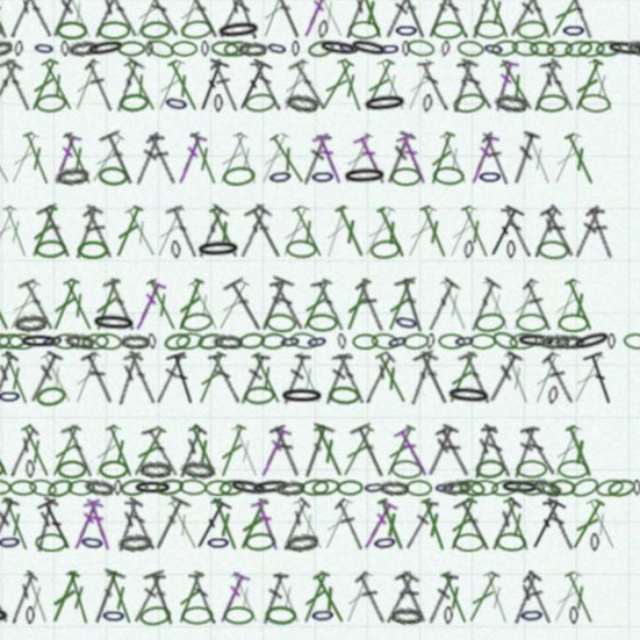chain: (535, 328, 572, 351), (229, 62, 270, 82), (355, 125, 396, 145), (427, 377, 468, 396), (13, 566, 54, 585), (343, 77, 380, 98), (122, 315, 162, 333), (240, 456, 276, 476), (117, 78, 153, 97), (317, 78, 353, 97), (338, 189, 378, 206), (212, 252, 252, 269), (565, 79, 601, 97), (284, 379, 324, 395), (433, 124, 463, 145), (288, 503, 319, 523), (259, 457, 295, 474), (500, 455, 529, 476), (163, 566, 192, 586), (289, 125, 319, 144), (469, 125, 499, 144), (91, 188, 121, 207), (534, 455, 561, 476), (28, 78, 56, 98), (74, 377, 102, 397), (19, 62, 48, 81), (199, 62, 228, 81), (235, 188, 264, 207), (199, 314, 228, 333), (466, 329, 492, 350), (169, 78, 196, 98), (55, 315, 85, 333), (199, 441, 229, 459), (145, 504, 175, 522), (254, 125, 282, 144), (362, 251, 390, 270), (452, 314, 480, 333), (488, 332, 523, 347), (474, 458, 509, 473), (83, 456, 109, 476), (164, 63, 192, 81), (74, 126, 102, 144), (542, 126, 570, 144), (506, 252, 534, 270), (272, 315, 300, 333), (20, 441, 48, 459), (380, 441, 408, 459), (60, 333, 95, 347), (158, 459, 193, 473), (184, 125, 208, 145), (488, 63, 516, 80), (416, 189, 444, 206), (326, 378, 354, 395), (254, 504, 282, 521), (470, 504, 498, 521), (529, 79, 555, 97), (68, 457, 94, 475), (466, 457, 492, 475), (556, 457, 582, 475), (566, 457, 592, 475), (163, 442, 192, 458), (379, 568, 408, 584), (452, 63, 479, 80), (102, 79, 129, 96), (583, 79, 610, 96), (146, 126, 173, 143), (128, 189, 155, 206), (74, 252, 101, 269), (290, 252, 317, 269), (99, 331, 126, 348), (254, 378, 281, 395), (116, 457, 143, 474), (423, 457, 450, 474), (272, 567, 299, 584), (382, 314, 406, 333), (308, 79, 333, 97), (184, 331, 209, 349), (213, 331, 238, 349), (438, 457, 463, 475), (128, 64, 156, 80), (74, 505, 102, 521), (200, 568, 228, 584), (393, 79, 419, 96), (453, 441, 479, 458), (177, 457, 203, 474), (92, 64, 119, 80), (344, 64, 371, 80), (416, 64, 443, 80), (506, 127, 533, 143), (380, 190, 407, 206), (110, 253, 137, 269), (308, 316, 335, 332), (488, 316, 515, 332), (524, 316, 551, 332), (508, 332, 535, 348), (488, 442, 515, 458), (524, 442, 551, 458), (280, 458, 307, 474), (434, 505, 461, 521), (236, 568, 263, 584), (466, 79, 491, 96), (195, 331, 220, 348), (293, 331, 318, 348), (482, 331, 507, 348), (147, 457, 172, 474), (312, 457, 337, 474), (93, 442, 119, 458), (129, 442, 155, 458), (274, 189, 297, 207), (112, 504, 135, 522), (364, 504, 387, 522), (484, 79, 508, 96), (249, 331, 273, 348), (225, 80, 250, 96), (29, 332, 54, 348), (125, 332, 150, 348), (363, 332, 388, 348), (22, 315, 45, 332), (236, 80, 260, 96), (437, 80, 461, 96), (499, 80, 523, 96), (514, 80, 538, 96), (541, 80, 565, 96), (556, 80, 580, 96), (114, 332, 138, 348), (390, 332, 414, 348), (580, 332, 604, 348), (232, 458, 256, 474), (376, 331, 397, 349), (41, 504, 63, 521), (311, 567, 333, 584), (491, 567, 513, 584), (248, 81, 274, 95), (147, 333, 173, 347), (227, 333, 253, 347), (521, 333, 547, 347), (370, 459, 396, 473), (30, 458, 54, 473), (198, 458, 222, 473), (303, 458, 327, 473), (272, 79, 293, 96), (334, 79, 355, 96), (79, 331, 100, 348), (383, 64, 405, 80), (527, 64, 549, 80), (311, 190, 333, 206), (455, 190, 477, 206), (41, 379, 63, 395), (221, 505, 243, 521), (131, 568, 153, 584), (268, 332, 291, 347), (517, 458, 540, 473), (145, 81, 169, 95), (41, 333, 65, 347), (51, 333, 75, 347), (89, 333, 113, 347), (421, 333, 445, 347), (52, 459, 76, 473), (102, 459, 126, 473), (220, 459, 244, 473), (449, 459, 473, 473), (191, 81, 214, 95), (347, 333, 370, 347), (448, 333, 471, 347), (334, 459, 357, 473), (393, 459, 416, 473), (490, 459, 513, 473), (459, 80, 479, 96), (284, 332, 304, 348), (307, 332, 327, 348), (72, 80, 92, 95), (434, 332, 454, 347), (356, 458, 376, 473), (417, 458, 437, 473), (370, 81, 389, 95), (317, 63, 327, 80), (515, 378, 525, 395), (407, 127, 417, 143), (191, 253, 200, 269), (443, 253, 452, 269), (228, 127, 236, 143), (30, 190, 38, 206), (480, 253, 488, 269), (66, 442, 74, 458), (552, 505, 560, 521), (66, 568, 74, 584), (426, 568, 434, 584), (534, 568, 542, 584), (423, 81, 432, 95), (334, 333, 343, 347), (410, 333, 419, 347), (56, 81, 64, 95), (96, 81, 104, 95), (171, 333, 179, 347), (169, 81, 176, 95), (217, 81, 224, 95), (295, 81, 302, 95), (390, 81, 397, 95), (567, 333, 574, 347), (142, 459, 149, 473), (589, 459, 596, 473)
double: (236, 284, 276, 334), (200, 32, 239, 82), (254, 221, 293, 271), (206, 473, 245, 523), (434, 473, 473, 523), (399, 346, 437, 397), (171, 472, 209, 523), (459, 221, 497, 271), (495, 473, 533, 523), (273, 31, 310, 82), (129, 157, 166, 208), (75, 220, 112, 271), (345, 409, 382, 460), (27, 95, 65, 144), (243, 95, 280, 145), (75, 473, 112, 523), (382, 31, 418, 82), (262, 283, 298, 334), (117, 159, 155, 207), (273, 159, 311, 207), (291, 95, 328, 144), (165, 410, 202, 459), (369, 536, 406, 585), (406, 31, 441, 82), (118, 535, 153, 586), (513, 33, 550, 81), (315, 96, 352, 144), (471, 96, 508, 144), (153, 411, 190, 459), (531, 474, 568, 522), (9, 537, 46, 585), (130, 32, 166, 81), (76, 95, 112, 144), (244, 221, 280, 270), (352, 221, 388, 270), (58, 284, 94, 333), (406, 284, 442, 333), (22, 159, 58, 207), (148, 222, 184, 270), (508, 222, 544, 270), (10, 285, 46, 333), (46, 285, 82, 333), (226, 285, 262, 333), (418, 411, 454, 459), (310, 537, 346, 585), (10, 32, 45, 81), (58, 32, 93, 81), (508, 95, 543, 144), (208, 221, 243, 270), (292, 221, 327, 270), (76, 347, 111, 396), (364, 347, 399, 396), (460, 347, 495, 396), (532, 347, 567, 396), (22, 410, 57, 459), (442, 536, 477, 585), (443, 32, 477, 82), (209, 95, 243, 145), (299, 410, 333, 460), (167, 536, 201, 586), (148, 96, 183, 144), (334, 411, 369, 459), (382, 411, 417, 459), (352, 474, 387, 522), (311, 32, 345, 81), (353, 95, 387, 144), (47, 158, 81, 207), (263, 158, 297, 207), (335, 158, 369, 207), (329, 221, 363, 270), (389, 221, 423, 270), (95, 284, 129, 333), (167, 284, 201, 333), (299, 284, 333, 333), (311, 284, 345, 333), (443, 284, 477, 333), (65, 347, 99, 396), (113, 347, 147, 396), (257, 347, 291, 396), (329, 347, 363, 396), (83, 410, 117, 459), (371, 410, 405, 459), (293, 473, 327, 522), (317, 473, 351, 522), (545, 473, 579, 522), (23, 536, 57, 585), (383, 536, 417, 585), (515, 536, 549, 585), (383, 284, 416, 334), (545, 347, 578, 397), (185, 96, 219, 144), (347, 159, 381, 207), (23, 285, 57, 333), (203, 285, 237, 333), (185, 474, 219, 522), (41, 95, 74, 144), (65, 95, 98, 144), (137, 95, 170, 144), (365, 95, 398, 144), (389, 95, 422, 144), (533, 95, 566, 144), (95, 158, 128, 207), (227, 158, 260, 207), (419, 158, 452, 207), (515, 158, 548, 207), (29, 221, 62, 270), (101, 221, 134, 270), (173, 221, 206, 270), (185, 221, 218, 270), (131, 284, 164, 333), (419, 284, 452, 333), (527, 284, 560, 333), (149, 347, 182, 396), (209, 347, 242, 396), (293, 347, 326, 396), (425, 347, 458, 396), (437, 347, 470, 396), (59, 410, 92, 459), (95, 410, 128, 459), (203, 410, 236, 459), (275, 410, 308, 459), (311, 410, 344, 459), (407, 410, 440, 459), (515, 410, 548, 459), (29, 473, 62, 522), (245, 473, 278, 522), (83, 536, 116, 585), (239, 536, 272, 585), (527, 536, 560, 585), (186, 347, 218, 397), (479, 33, 513, 80), (95, 33, 128, 81), (155, 33, 188, 81), (527, 159, 560, 207), (221, 222, 254, 270), (365, 222, 398, 270), (155, 285, 188, 333), (263, 411, 296, 459), (84, 32, 116, 81), (300, 32, 332, 81), (456, 32, 488, 81), (492, 32, 524, 81), (174, 95, 206, 144), (282, 95, 314, 144), (60, 158, 92, 207), (204, 158, 236, 207), (384, 158, 416, 207), (492, 158, 524, 207), (138, 221, 170, 270), (282, 221, 314, 270), (402, 221, 434, 270), (426, 221, 458, 270), (438, 221, 470, 270), (84, 284, 116, 333), (372, 284, 404, 333), (456, 284, 488, 333), (480, 284, 512, 333), (42, 347, 74, 396), (102, 347, 134, 396), (390, 347, 422, 396), (498, 347, 530, 396), (12, 410, 44, 459), (120, 410, 152, 459), (132, 410, 164, 459), (240, 410, 272, 459), (42, 473, 74, 522), (102, 473, 134, 522), (222, 473, 254, 522), (426, 473, 458, 522), (228, 536, 260, 585), (276, 536, 308, 585), (336, 536, 368, 585), (420, 536, 452, 585), (119, 33, 152, 80), (167, 33, 200, 80), (437, 96, 470, 143), (509, 348, 542, 395), (461, 474, 494, 521), (264, 32, 295, 81), (348, 32, 379, 81), (528, 32, 559, 81), (426, 95, 457, 144), (192, 158, 223, 207), (312, 158, 343, 207), (372, 158, 403, 207), (444, 158, 475, 207), (42, 221, 73, 270), (66, 221, 97, 270), (192, 284, 223, 333), (516, 284, 547, 333), (474, 347, 505, 396), (228, 410, 259, 459), (528, 410, 559, 459), (366, 473, 397, 522), (474, 473, 505, 522), (192, 536, 223, 585), (300, 536, 331, 585), (228, 33, 260, 80), (168, 159, 200, 206), (354, 348, 386, 395), (492, 411, 524, 458), (390, 474, 422, 521), (348, 537, 380, 584), (24, 33, 55, 81), (372, 33, 403, 81), (114, 222, 145, 270), (276, 285, 307, 333), (348, 285, 379, 333), (30, 348, 61, 396), (192, 411, 223, 459), (480, 537, 511, 585), (193, 32, 223, 81), (103, 95, 133, 144), (331, 95, 361, 144), (547, 95, 577, 144), (85, 158, 115, 207), (241, 158, 271, 207), (409, 158, 439, 207), (121, 284, 151, 333), (337, 284, 367, 333), (259, 473, 289, 522), (403, 473, 433, 522), (61, 536, 91, 585), (133, 536, 163, 585), (457, 536, 487, 585), (48, 33, 79, 80), (492, 285, 523, 332), (48, 411, 79, 458), (330, 474, 361, 521), (156, 537, 187, 584), (492, 537, 523, 584), (535, 222, 565, 270), (223, 348, 253, 396), (247, 348, 277, 396), (409, 537, 439, 585), (481, 158, 510, 207), (319, 221, 348, 270), (115, 473, 144, 522), (115, 96, 145, 143), (223, 96, 253, 143), (259, 96, 289, 143), (403, 96, 433, 143), (499, 96, 529, 143), (13, 159, 43, 206), (499, 222, 529, 269), (175, 348, 205, 395), (283, 474, 313, 521), (157, 159, 186, 207), (301, 159, 330, 207), (547, 222, 576, 270), (139, 348, 168, 396), (139, 474, 168, 522), (511, 474, 540, 522), (98, 536, 126, 585), (337, 33, 366, 80), (457, 159, 486, 206), (475, 222, 504, 269), (151, 474, 180, 521), (49, 537, 78, 584), (422, 33, 450, 81), (284, 348, 312, 396), (320, 348, 348, 396), (458, 411, 486, 459), (446, 411, 473, 459), (206, 537, 233, 585), (266, 537, 293, 585), (465, 95, 491, 144), (483, 411, 509, 459), (69, 474, 95, 522), (243, 33, 268, 81)
noise: (619, 541, 637, 559), (0, 267, 25, 278), (609, 522, 634, 533)
